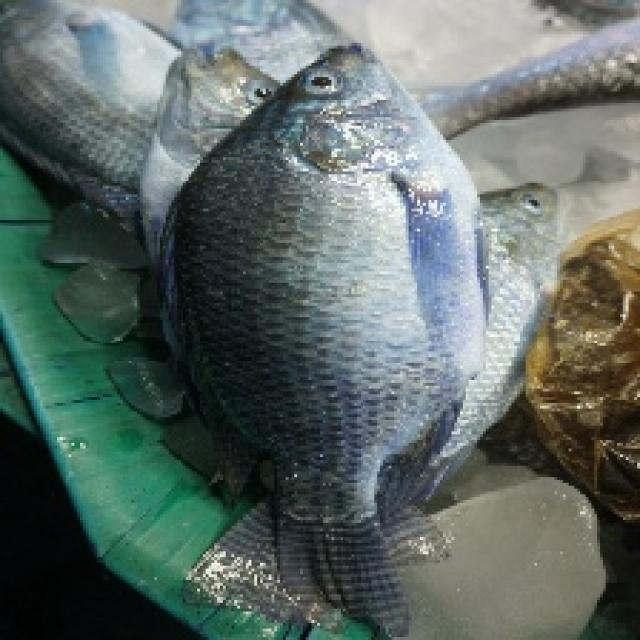Fresh: (176, 38, 540, 636), (15, 1, 148, 196)
